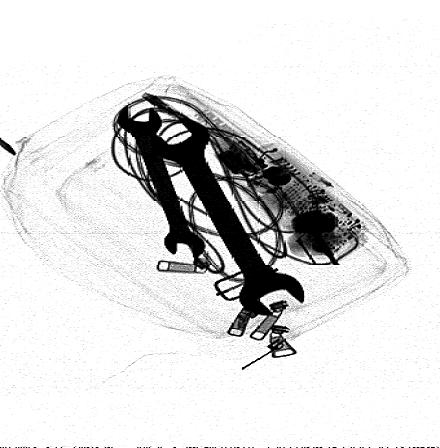Wrench: (147, 115, 304, 316), (116, 103, 205, 258)
